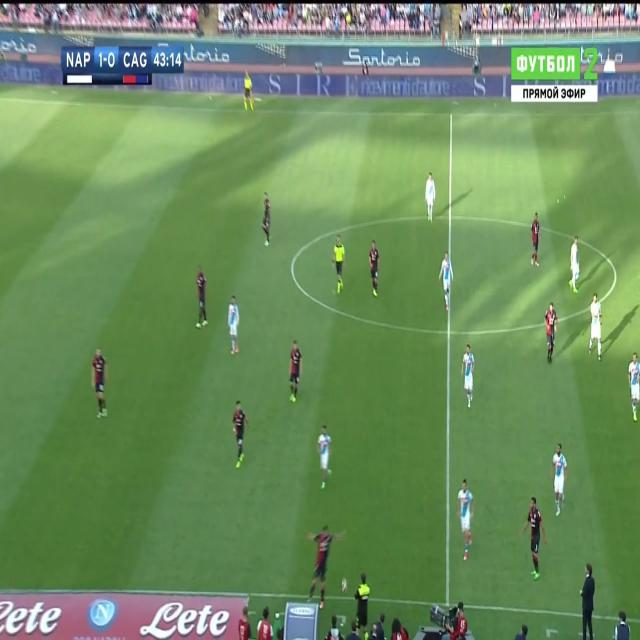Ball: (340, 574, 350, 594)
Player: (304, 523, 346, 610), (520, 496, 550, 584), (90, 344, 112, 425), (549, 440, 571, 520), (314, 420, 336, 494), (458, 475, 476, 563), (230, 399, 251, 470), (586, 290, 604, 365), (193, 262, 212, 332), (224, 291, 243, 359), (625, 347, 640, 429), (542, 301, 560, 366), (436, 246, 454, 310), (287, 335, 302, 408), (366, 238, 383, 300), (259, 186, 275, 250), (567, 233, 583, 297), (461, 343, 476, 409), (421, 170, 438, 226), (528, 210, 542, 271)
Referee: (332, 230, 348, 296), (242, 67, 256, 116)
